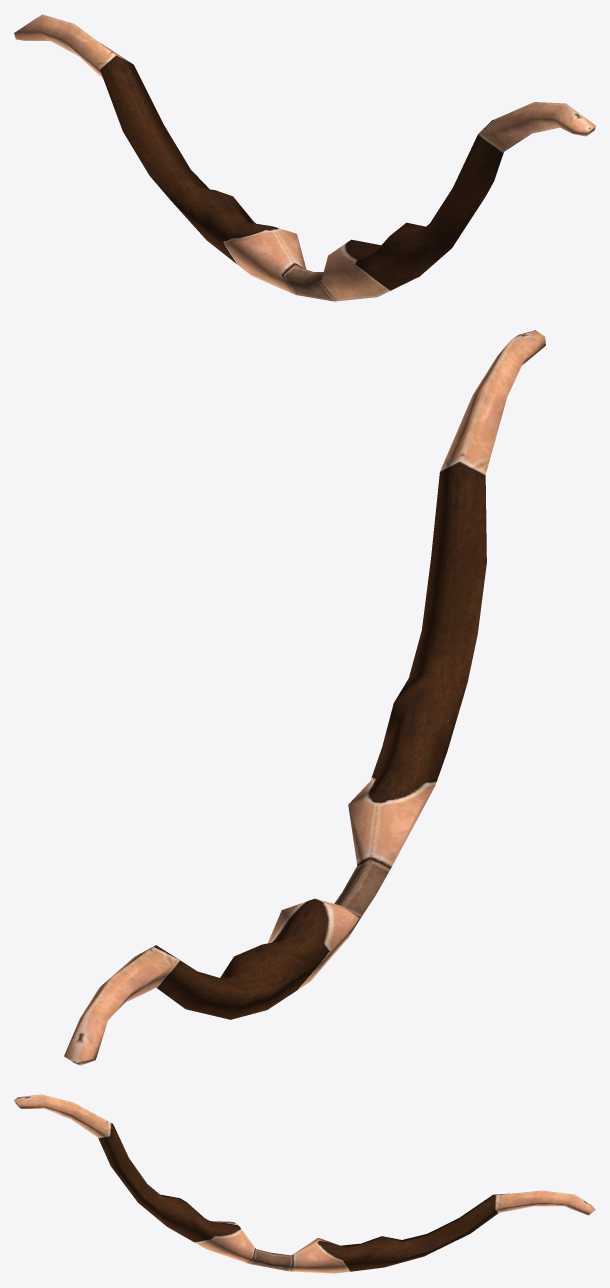
File: rangedweapon-copperweapons.glb
3 renders of one model, top to bottom at view 1: azimuth 30°, elevation 25°; view 2: azimuth 150°, elevation 25°; view 3: azimuth 270°, elevation 25°, orthographic. The views are drawn at different scales.
Size of the model in its own units: 0.2109 by 0.5592 by 1.46.
Materials: 1 (1 with a texture image).
